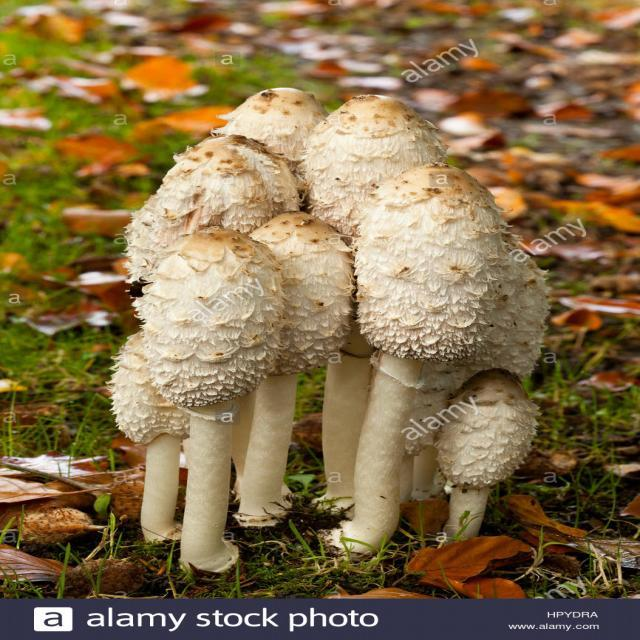Coprinus comatus: (353, 166, 509, 554), (149, 228, 280, 566), (245, 211, 347, 526), (122, 138, 306, 268), (306, 92, 458, 230), (440, 377, 537, 539), (112, 327, 178, 537)
